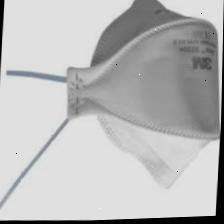mask: (0, 0, 224, 221)
